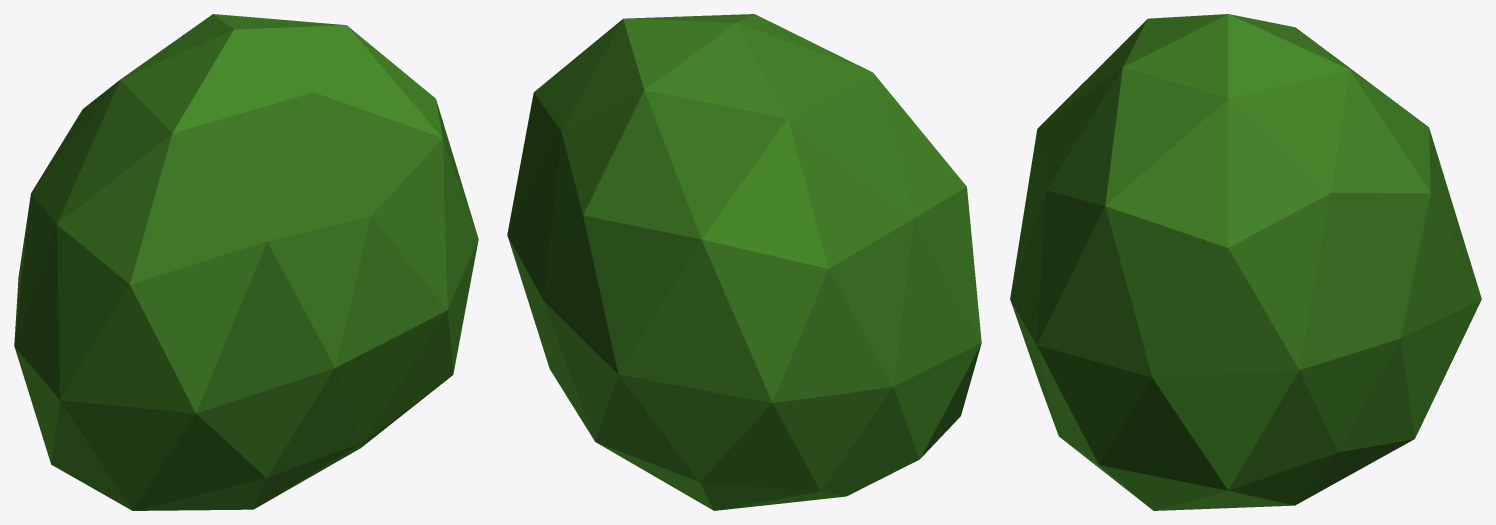
The model's file is N11_Leaf_Cluster_Tip.fbx.
3 renders of one model, left to right at view 1: azimuth 30°, elevation 25°; view 2: azimuth 150°, elevation 25°; view 3: azimuth 270°, elevation 25°, orthographic. The views are drawn at different scales.
Visible parts, largest first — view 1: N11_Leaf_Cluster_Tip; view 2: N11_Leaf_Cluster_Tip; view 3: N11_Leaf_Cluster_Tip.
Part boxes in pixels (x1,y1,x2,y2): N11_Leaf_Cluster_Tip: [14, 14, 478, 510]; N11_Leaf_Cluster_Tip: [507, 14, 981, 510]; N11_Leaf_Cluster_Tip: [1010, 14, 1481, 510].
Size of the model in its own units: 0.7788 by 0.8061 by 0.7047.
1 material, 1 textured.
